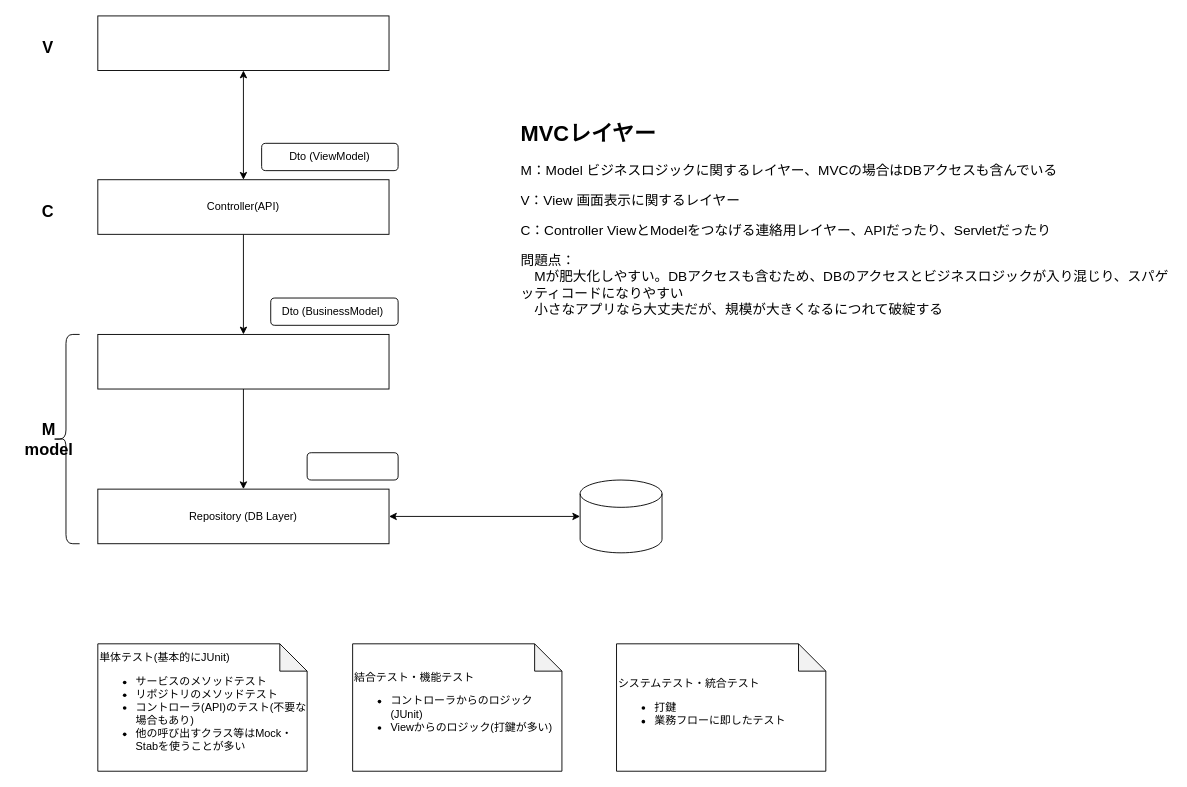
The diagram is 1187 pixels wide and 787 high, and some of its shapes have lost their labels. The shapes that lost their labels are listed below. From the top down, each one's centre as x and y in pixels, then its label:
At [243,43]: "View".
At [243,361]: "IService, Service (Buisiness Logic)".
At [352,466]: "Entity".
At [620,516]: "DB".
